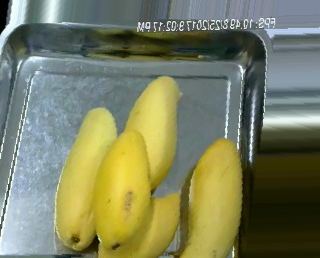Mango: (54, 108, 119, 250), (179, 138, 242, 257), (125, 75, 183, 189), (94, 129, 149, 247), (97, 193, 183, 258)
